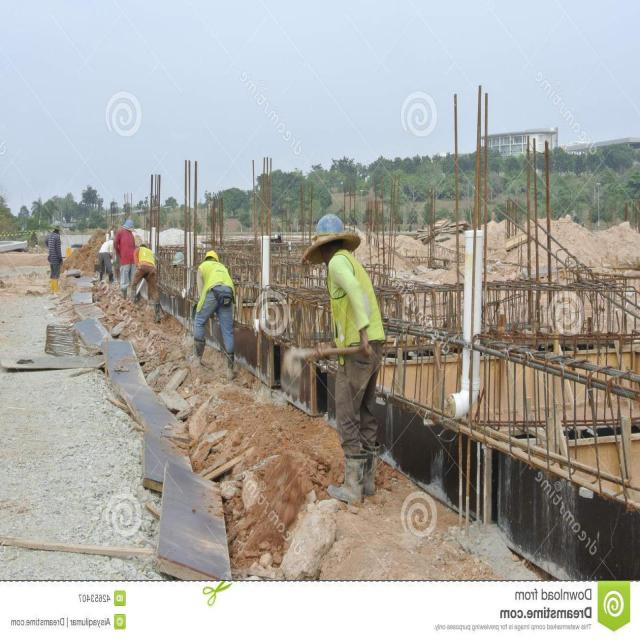Reflective-Jacket: (325, 251, 387, 362), (193, 254, 236, 310)
Safety-Helmet: (309, 207, 362, 248), (123, 215, 137, 230)
